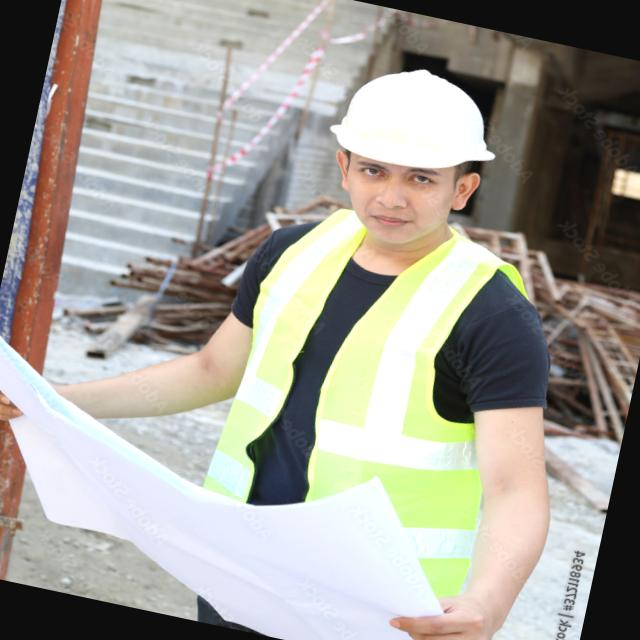helmet: (314, 38, 536, 198)
no-goggles: (320, 135, 473, 211)
vest: (203, 198, 529, 546)
